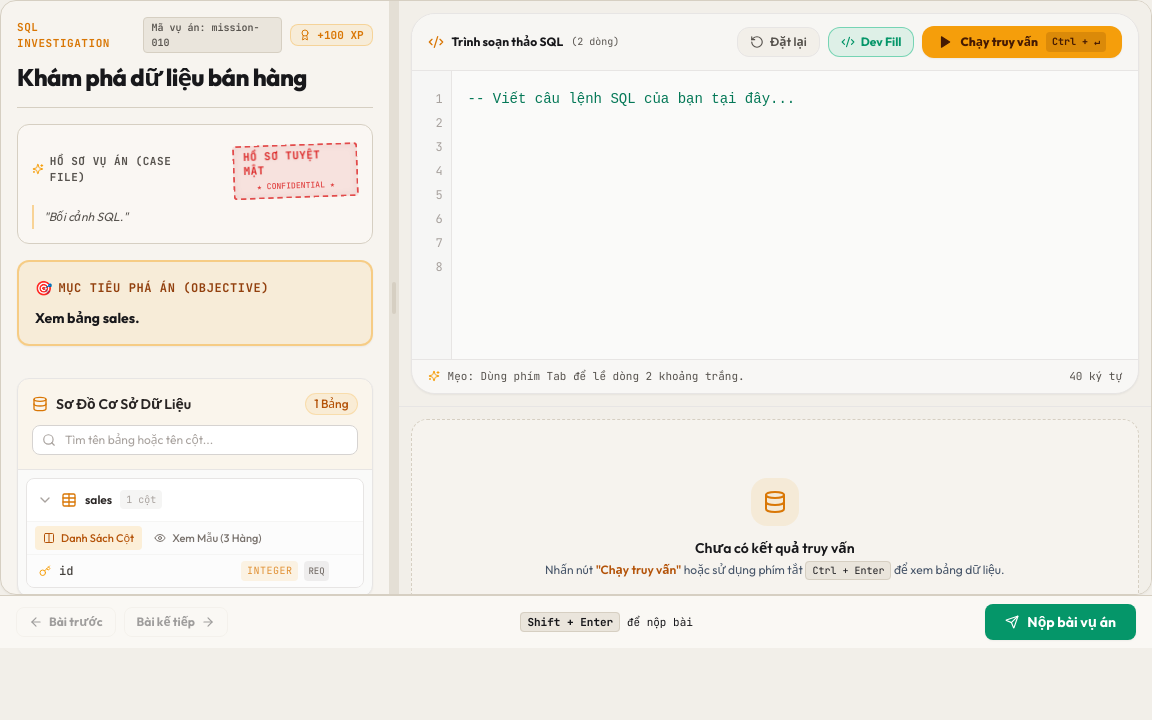
SqlMissionPage › submits query and opens MissionResultModal with optimistic UI without waiting for awardXp
Expected: the text "Khám phá dữ liệu bán hàng" is shown, [17,61,307,93]
# First run the query so submit button is visible
Click the button with aria-label "chạy câu lệnh sql".
click(1022, 42)  # box [922,26,1122,58]
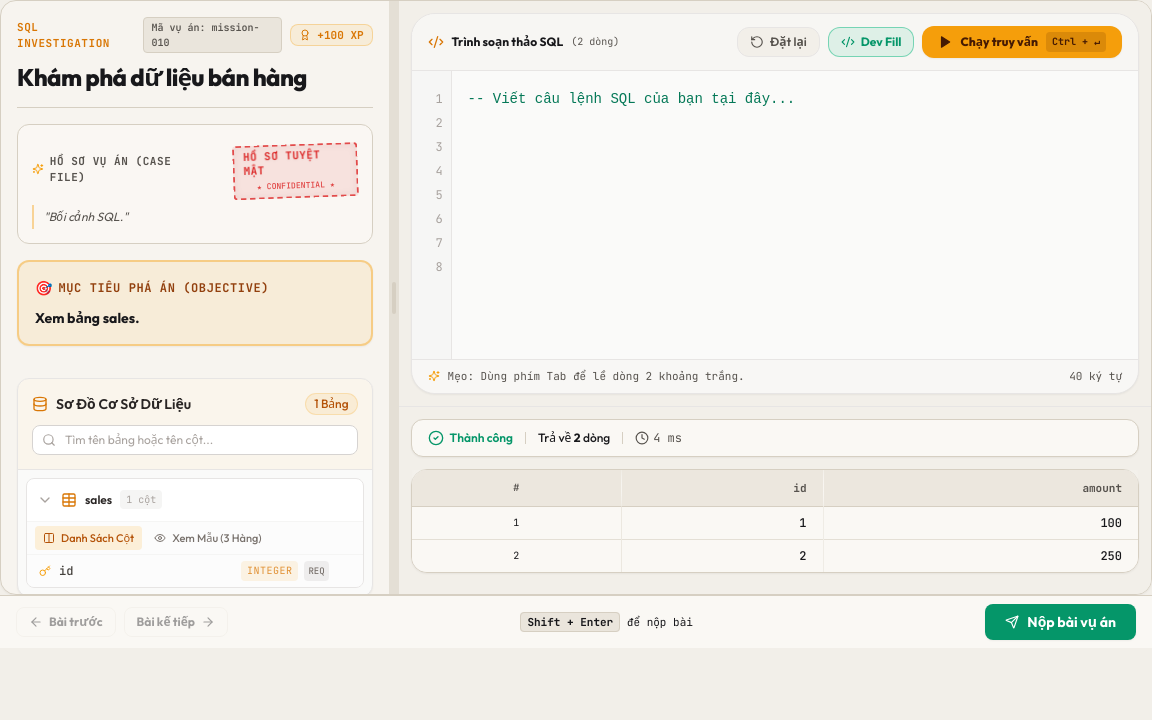
# Now click submit button
Click the button "Nộp bài vụ án".
click(1061, 622)  # box [985,604,1136,640]
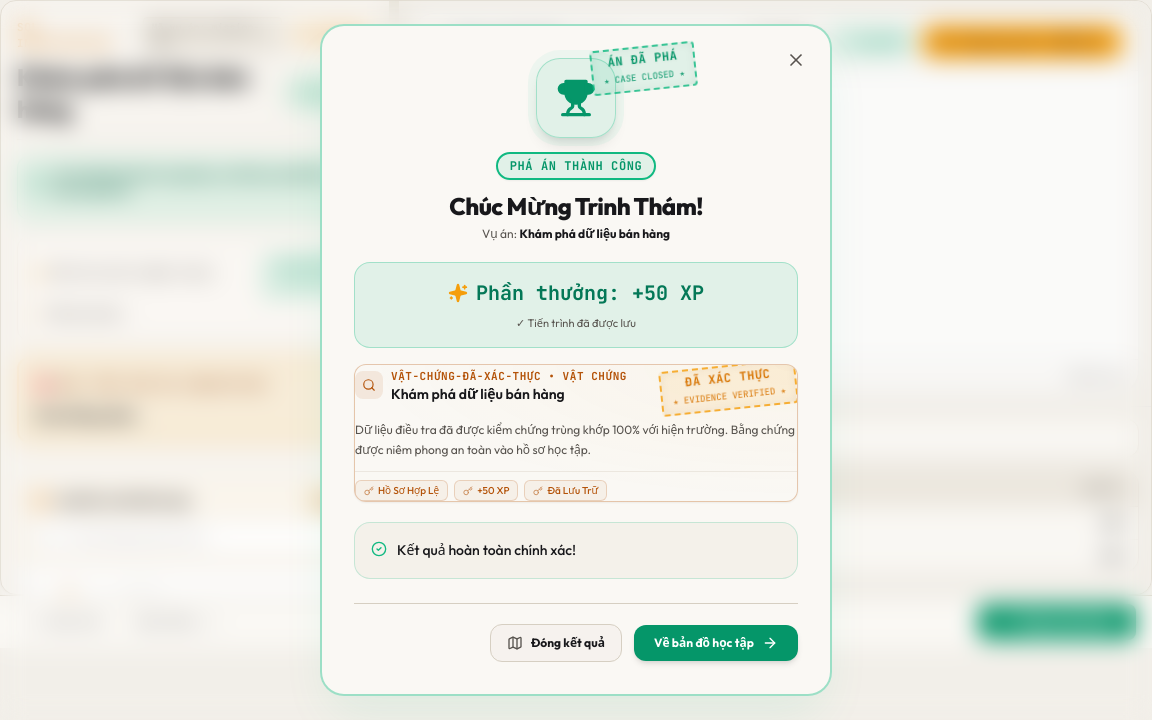
Now the heading "Chúc Mừng Trinh Thám!" is shown, box [449,190,703,222]
Now the text "✓ Tiến trình đã được lưu" is shown, box [516,315,636,331]
Now the text "Phần thưởng: +50 XP" is shown, box [476,279,704,307]
